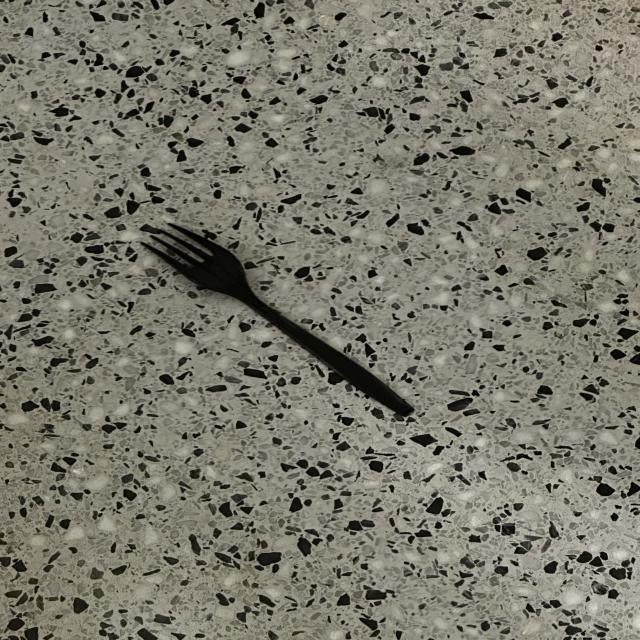fork: (118, 184, 436, 462)
